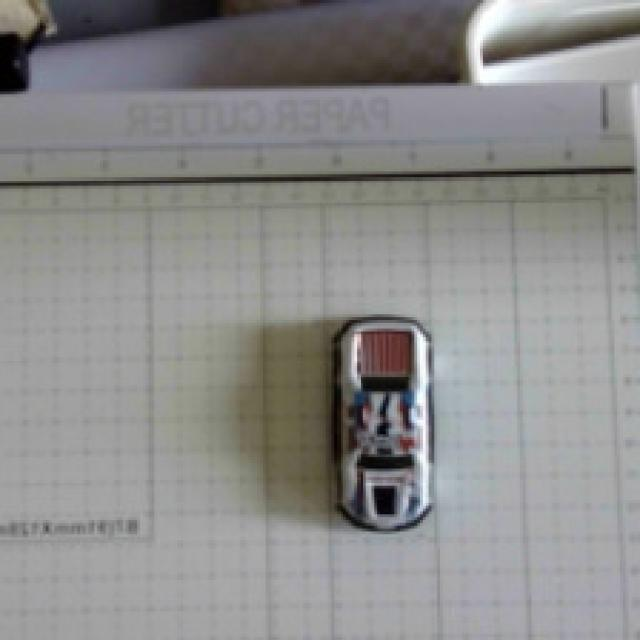Grey Car: (286, 296, 521, 624)
